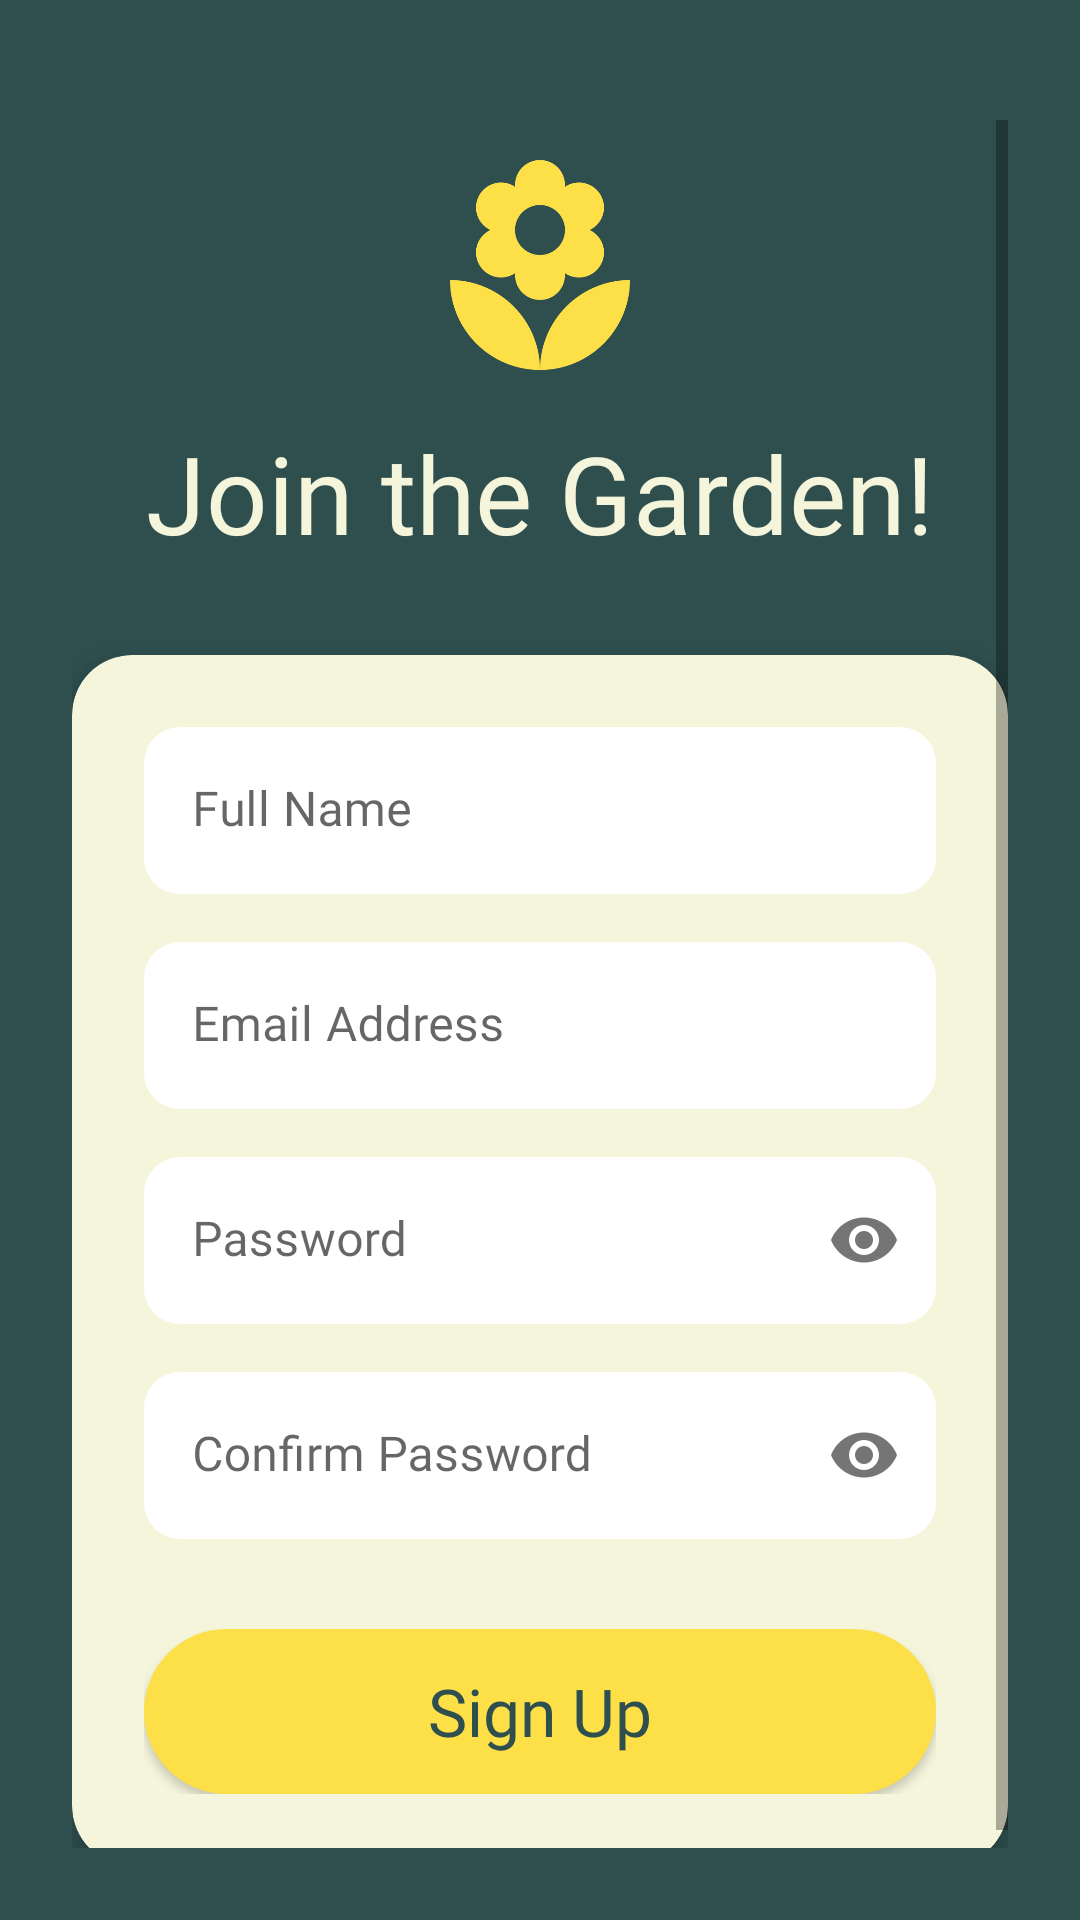

Point at icon controls on the screen. Image size 1080px×1920px, points as [x,y].
flower: [540,265]
